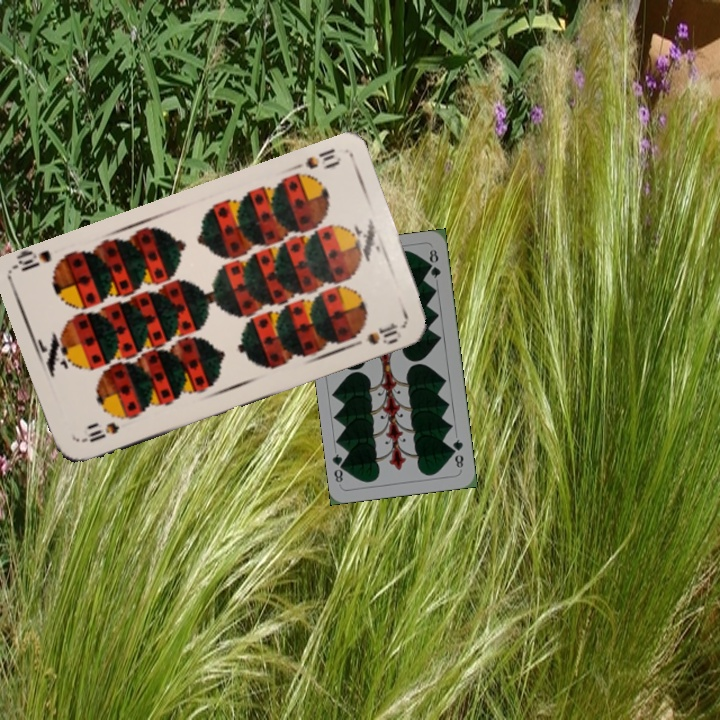G8: (448, 435, 466, 471)
S10: (286, 144, 344, 174), (77, 418, 122, 446)
